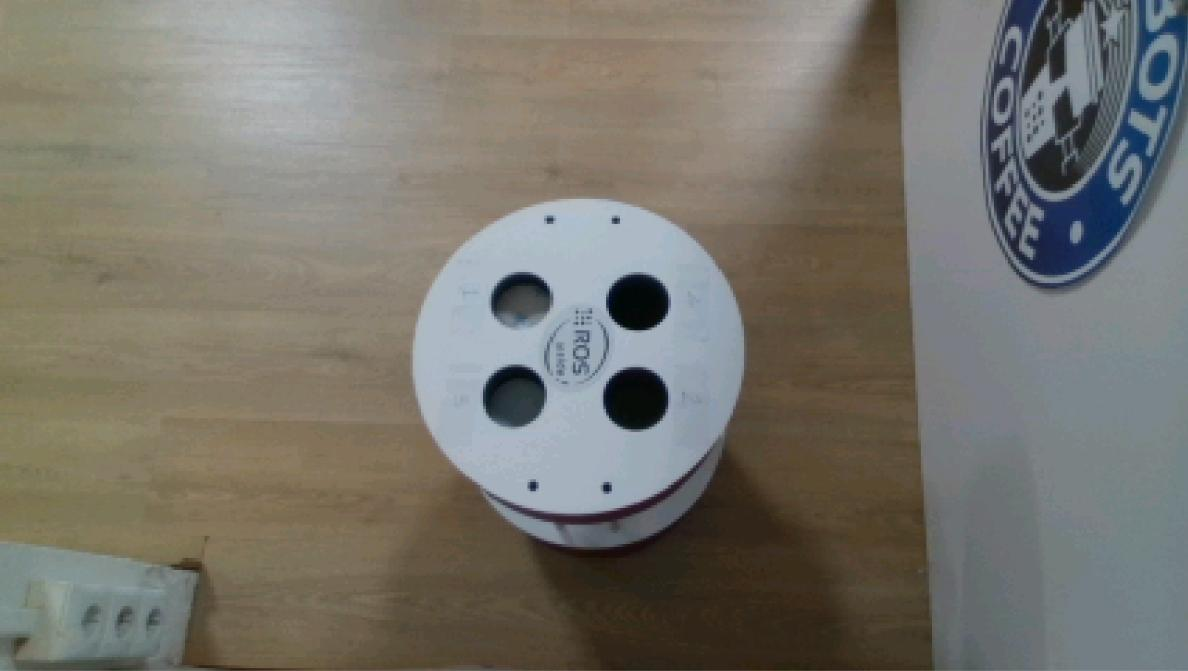hole: (600, 362, 673, 436), (478, 360, 551, 432), (601, 264, 672, 333), (487, 267, 556, 333)
